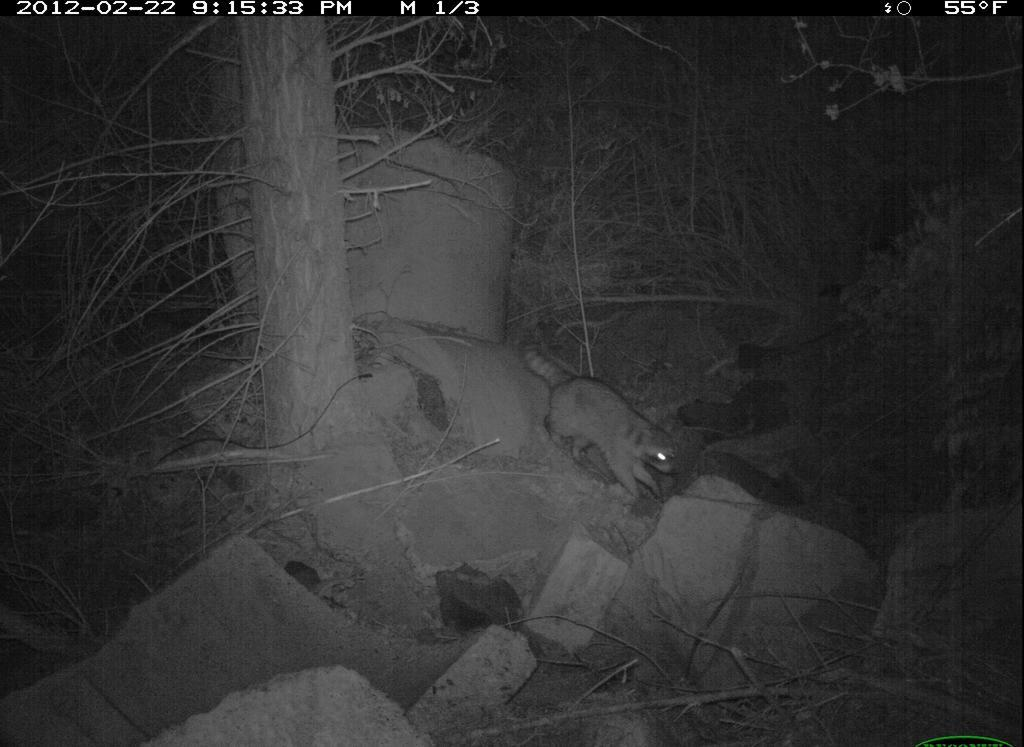raccoon: (518, 328, 687, 506)
